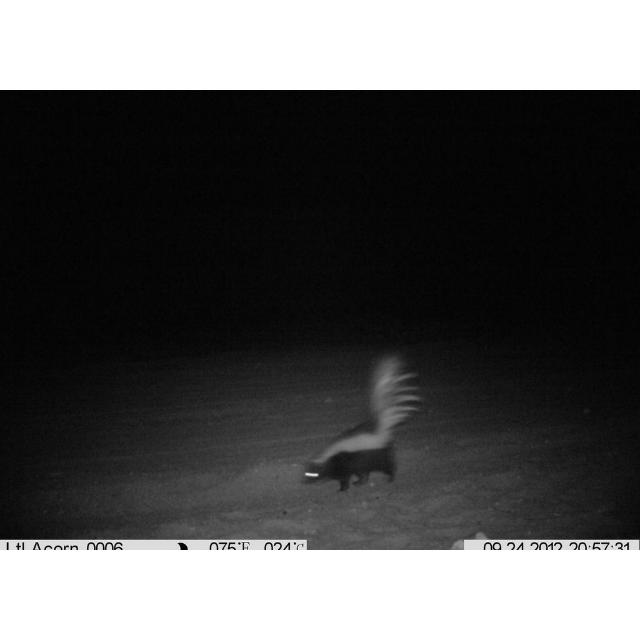animals: (296, 348, 422, 498)
